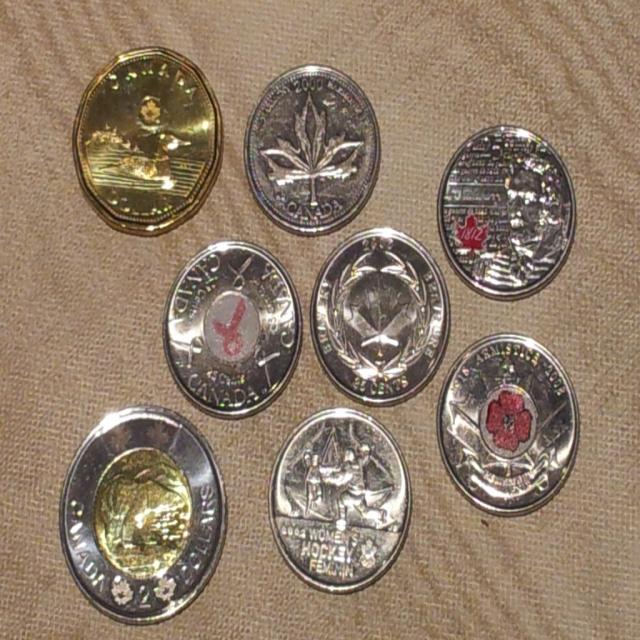Coin: (59, 399, 230, 625), (71, 41, 224, 236), (269, 404, 415, 598), (437, 329, 583, 513), (310, 223, 455, 403), (248, 60, 382, 237), (440, 125, 574, 298)
